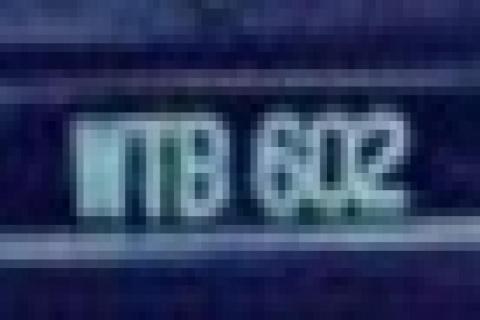LicensePlate: (0, 77, 480, 255)
